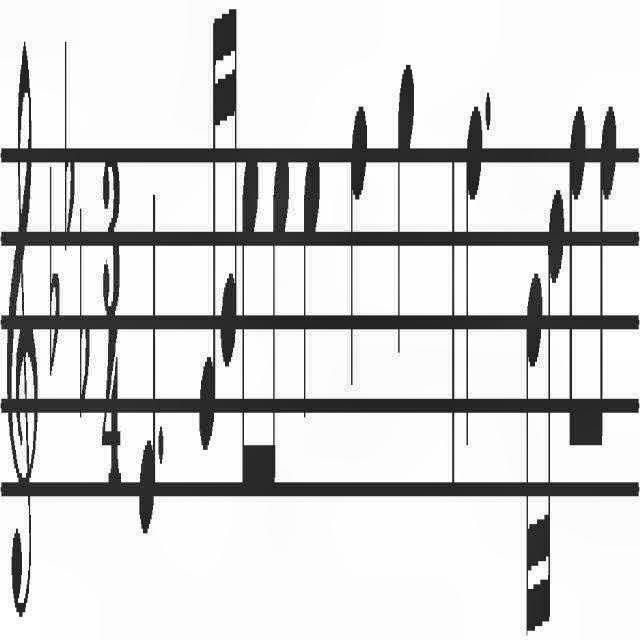Bass-clef: (2, 15, 43, 640)
Bemol: (75, 184, 93, 443), (59, 21, 77, 256), (45, 134, 59, 384)
Eighth-note: (594, 89, 620, 469), (267, 137, 289, 526), (241, 140, 263, 508), (568, 59, 586, 477)
Quarter-note: (126, 184, 158, 584), (342, 71, 370, 408), (392, 33, 418, 390), (464, 75, 484, 465), (300, 110, 320, 452)
Sixteenth-note: (191, 0, 220, 468), (544, 156, 564, 640), (524, 222, 544, 640), (216, 1, 238, 380)
